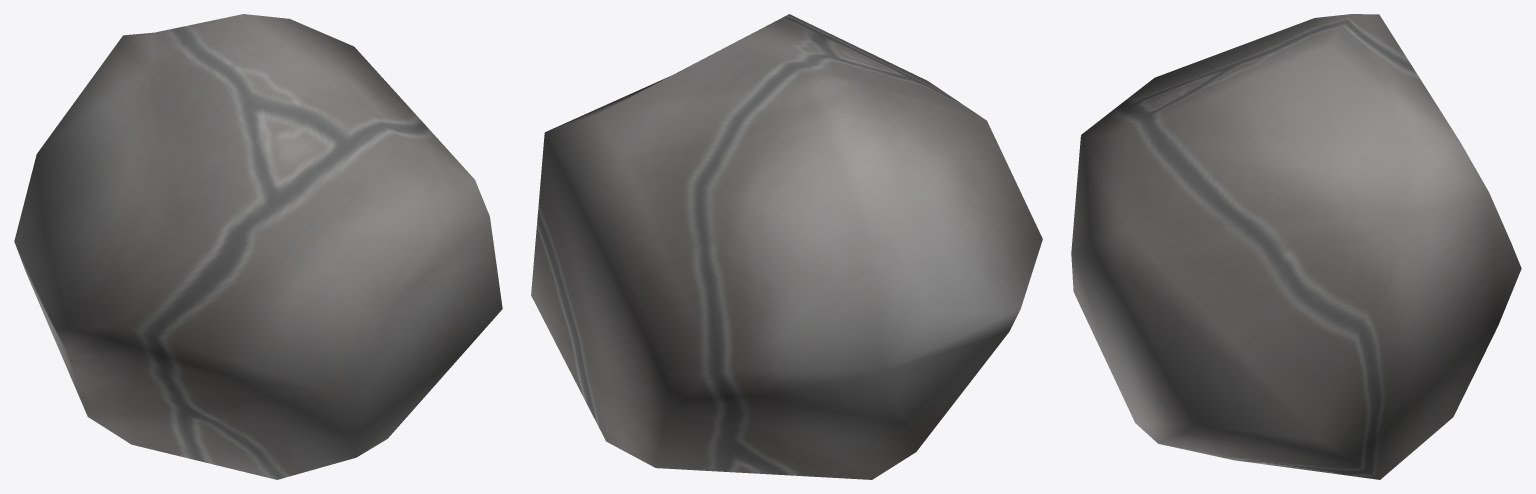
File: PR_Throwing_Rock_GLTF.gltf
3 renders of one model, left to right at view 1: azimuth 30°, elevation 25°; view 2: azimuth 150°, elevation 25°; view 3: azimuth 270°, elevation 25°, orthographic. The views are drawn at different scales.
Parts seen in each view (by area): view 1: PR_Throwing_Rock; view 2: PR_Throwing_Rock; view 3: PR_Throwing_Rock.
Part boxes in pixels (x1=…): PR_Throwing_Rock: x1=14, y1=14, x2=502, y2=479; PR_Throwing_Rock: x1=531, y1=14, x2=1042, y2=479; PR_Throwing_Rock: x1=1071, y1=14, x2=1521, y2=479.
Size of the model in its own units: 0.9884 by 0.9296 by 0.8979.
Materials: 1 (1 with a texture image).
